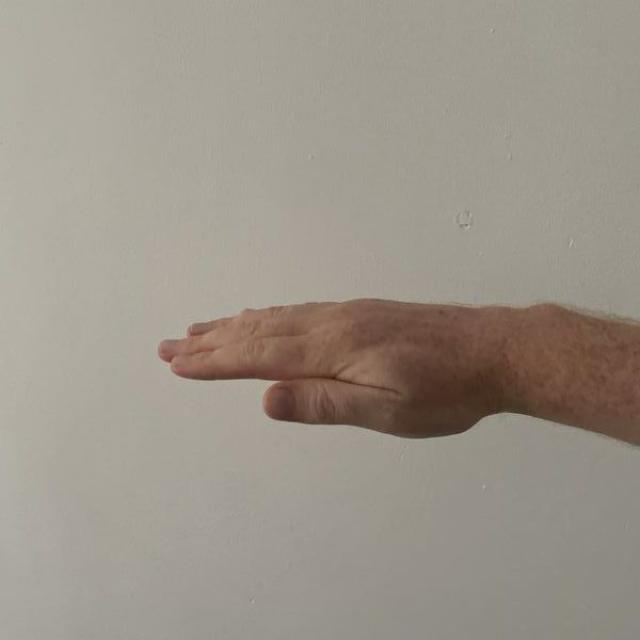papper: (155, 290, 517, 442)
